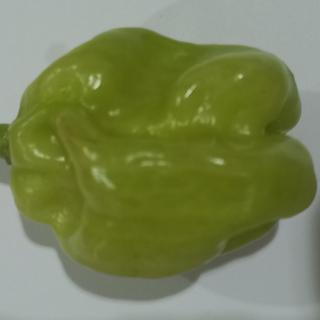Grade-A: (0, 18, 314, 279)
